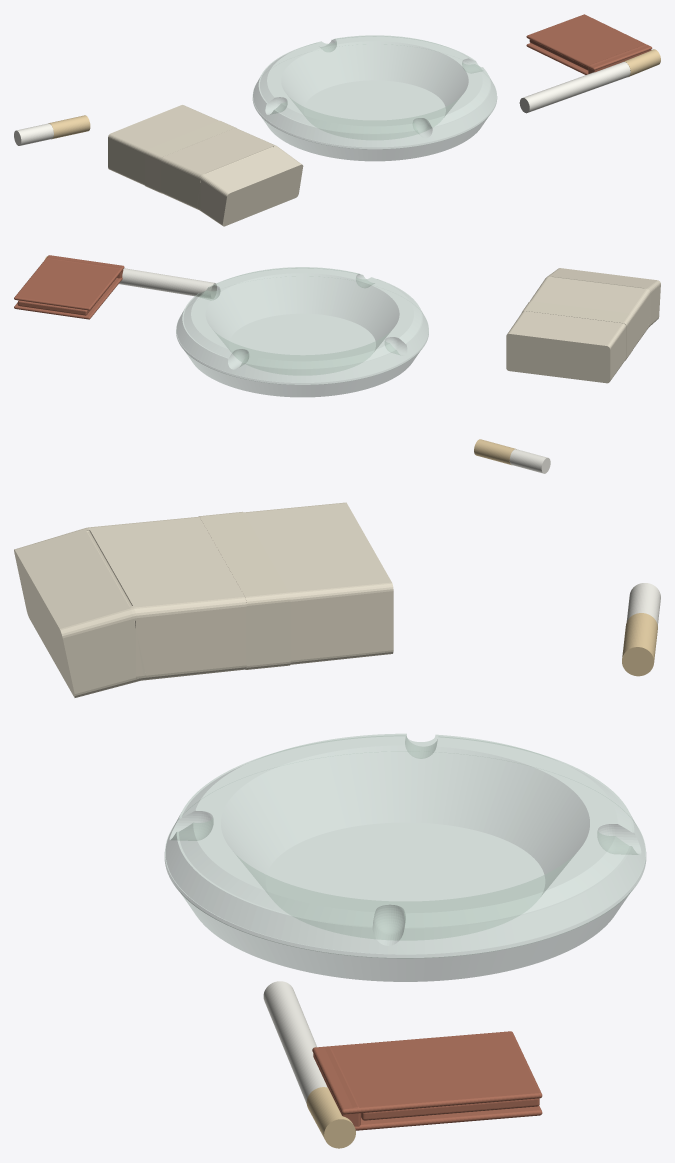
File: X14_LRS1953_DESK_01_B.glb
3 renders of one model, top to bottom at view 1: azimuth 30°, elevation 25°; view 2: azimuth 150°, elevation 25°; view 3: azimuth 270°, elevation 25°, orthographic. The views are drawn at different scales.
Visible parts, largest first — view 1: PASS6F_ashtray_round_0_ashtray_round_Body, PASS6F_cigarette_pack_1_cigarette_pack_DCGraphics, PASS6F_matchbook_2_matchbook_DCGraphics, PASS6F_cigarette_4_cigarette_Filter, PASS6F_cigarette_3_cigarette_Paper, PASS6F_cigarette_3_cigarette_Filter, PASS6F_cigarette_4_cigarette_Paper; view 2: PASS6F_ashtray_round_0_ashtray_round_Body, PASS6F_cigarette_pack_1_cigarette_pack_DCGraphics, PASS6F_matchbook_2_matchbook_DCGraphics, PASS6F_cigarette_4_cigarette_Filter, PASS6F_cigarette_3_cigarette_Filter, PASS6F_cigarette_3_cigarette_Paper; view 3: PASS6F_ashtray_round_0_ashtray_round_Body, PASS6F_cigarette_pack_1_cigarette_pack_DCGraphics, PASS6F_matchbook_2_matchbook_DCGraphics, PASS6F_cigarette_4_cigarette_Filter, PASS6F_cigarette_3_cigarette_Paper, PASS6F_cigarette_4_cigarette_Paper, PASS6F_cigarette_3_cigarette_Filter.
Boxes of the visible parts, <box> form: PASS6F_ashtray_round_0_ashtray_round_Body: <box>252,35,497,161</box>; PASS6F_cigarette_pack_1_cigarette_pack_DCGraphics: <box>108,105,303,226</box>; PASS6F_matchbook_2_matchbook_DCGraphics: <box>526,14,652,74</box>; PASS6F_cigarette_4_cigarette_Filter: <box>519,62,630,113</box>; PASS6F_cigarette_3_cigarette_Paper: <box>48,115,90,139</box>; PASS6F_cigarette_3_cigarette_Filter: <box>14,123,53,145</box>; PASS6F_cigarette_4_cigarette_Paper: <box>624,49,660,76</box>; PASS6F_ashtray_round_0_ashtray_round_Body: <box>176,267,428,397</box>; PASS6F_cigarette_pack_1_cigarette_pack_DCGraphics: <box>506,268,660,383</box>; PASS6F_matchbook_2_matchbook_DCGraphics: <box>14,255,124,319</box>; PASS6F_cigarette_4_cigarette_Filter: <box>119,268,216,298</box>; PASS6F_cigarette_3_cigarette_Filter: <box>509,449,550,473</box>; PASS6F_cigarette_3_cigarette_Paper: <box>474,439,516,465</box>; PASS6F_ashtray_round_0_ashtray_round_Body: <box>164,733,646,981</box>; PASS6F_cigarette_pack_1_cigarette_pack_DCGraphics: <box>14,502,393,697</box>; PASS6F_matchbook_2_matchbook_DCGraphics: <box>312,1031,542,1130</box>; PASS6F_cigarette_4_cigarette_Filter: <box>263,981,327,1103</box>; PASS6F_cigarette_3_cigarette_Paper: <box>622,613,657,676</box>; PASS6F_cigarette_4_cigarette_Paper: <box>306,1087,355,1148</box>; PASS6F_cigarette_3_cigarette_Filter: <box>626,583,660,625</box>.
Bounding box in the file's own units: 0.317 × 0.0345 × 0.1604.
